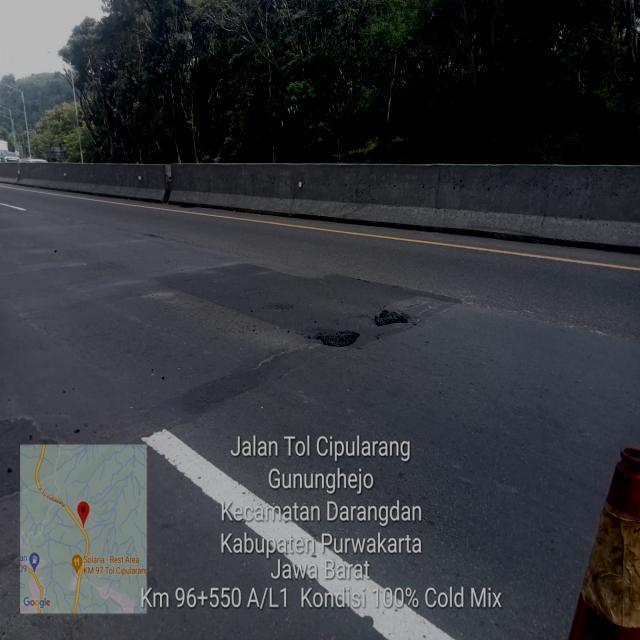Buraco: (301, 328, 363, 350), (370, 307, 418, 329)
